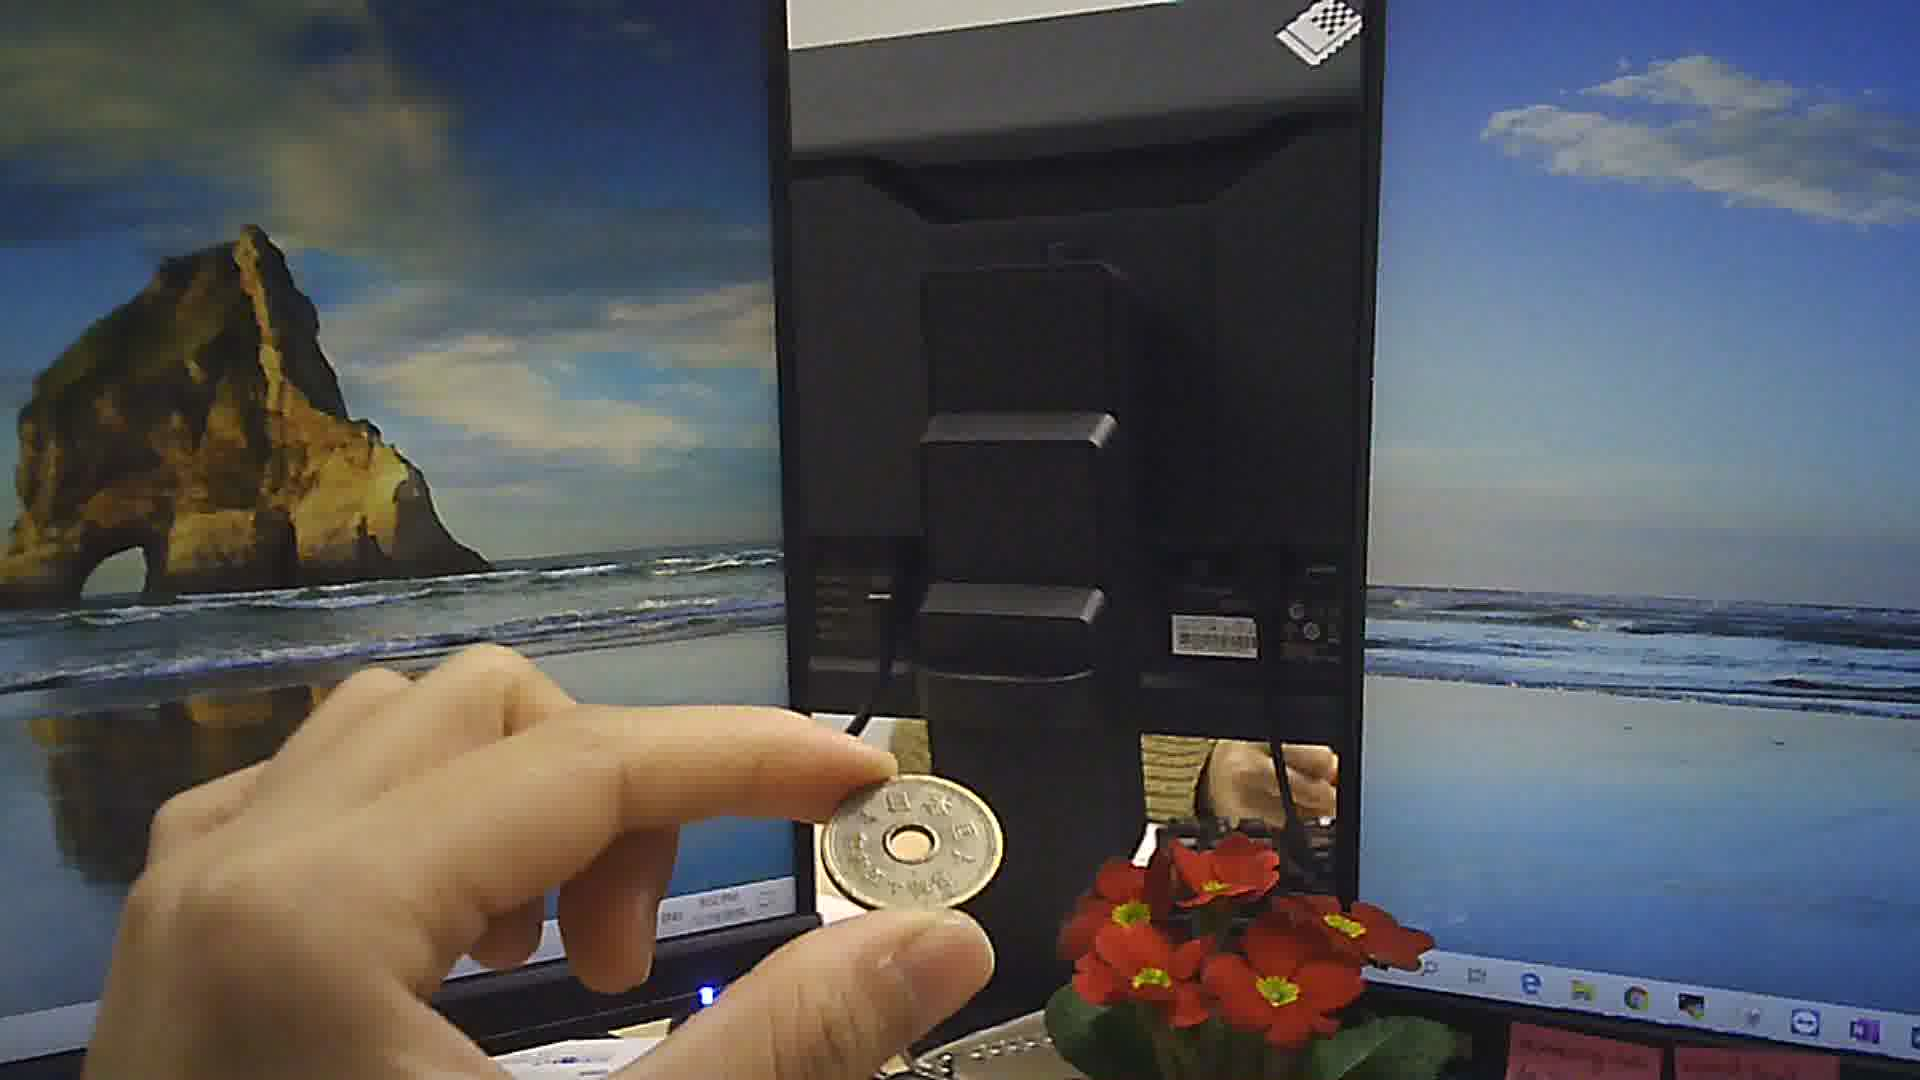5 Yen: (820, 774, 1011, 913)
